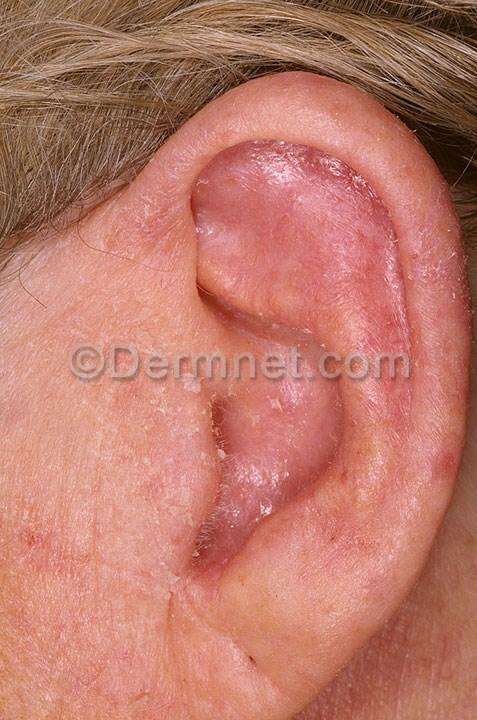Eczema: (0, 551, 214, 720), (46, 267, 222, 471), (148, 138, 349, 270), (331, 334, 469, 473), (313, 477, 419, 615), (358, 149, 440, 325)
